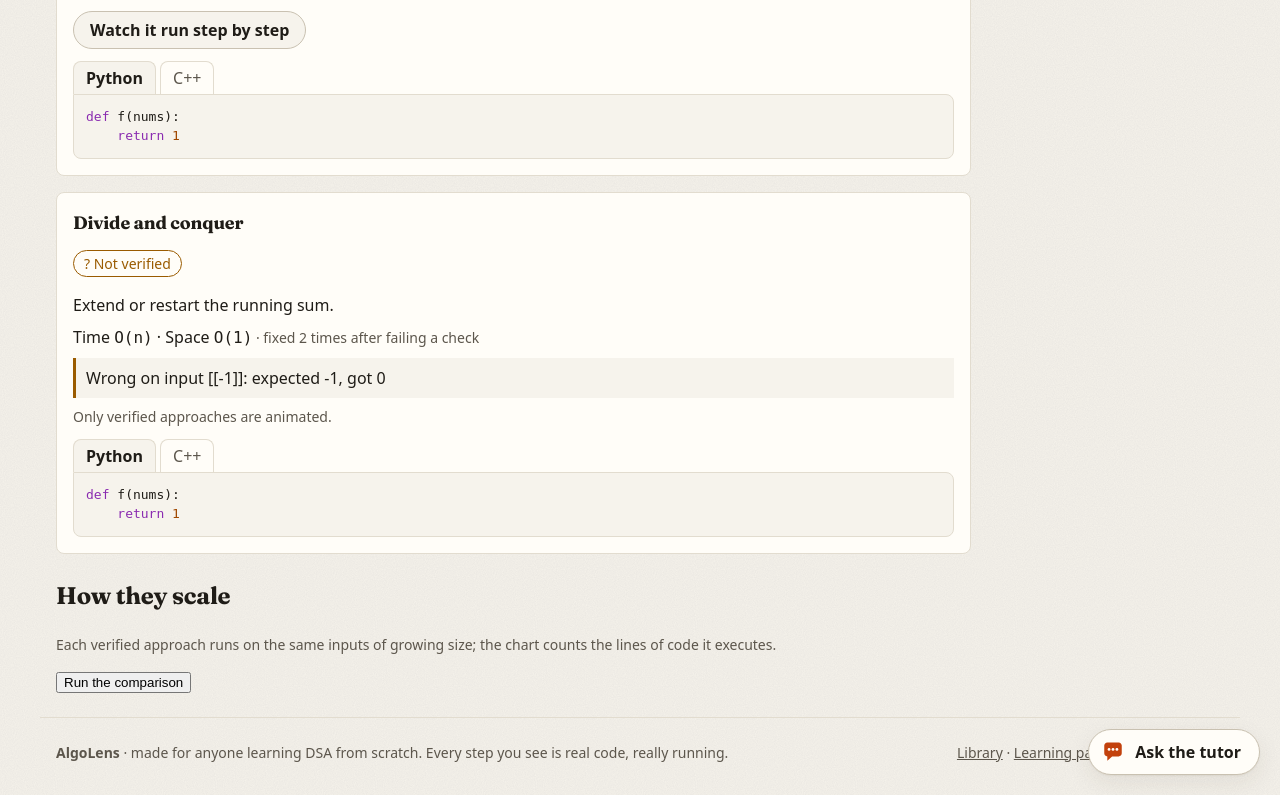
Test case: the comparison runs on request and shows a chart, a legend and the numbers
(page scrolled)
Click the button "Run the comparison" at (124, 682), box x1=56 y1=672 x2=191 y2=693
(page scrolled)
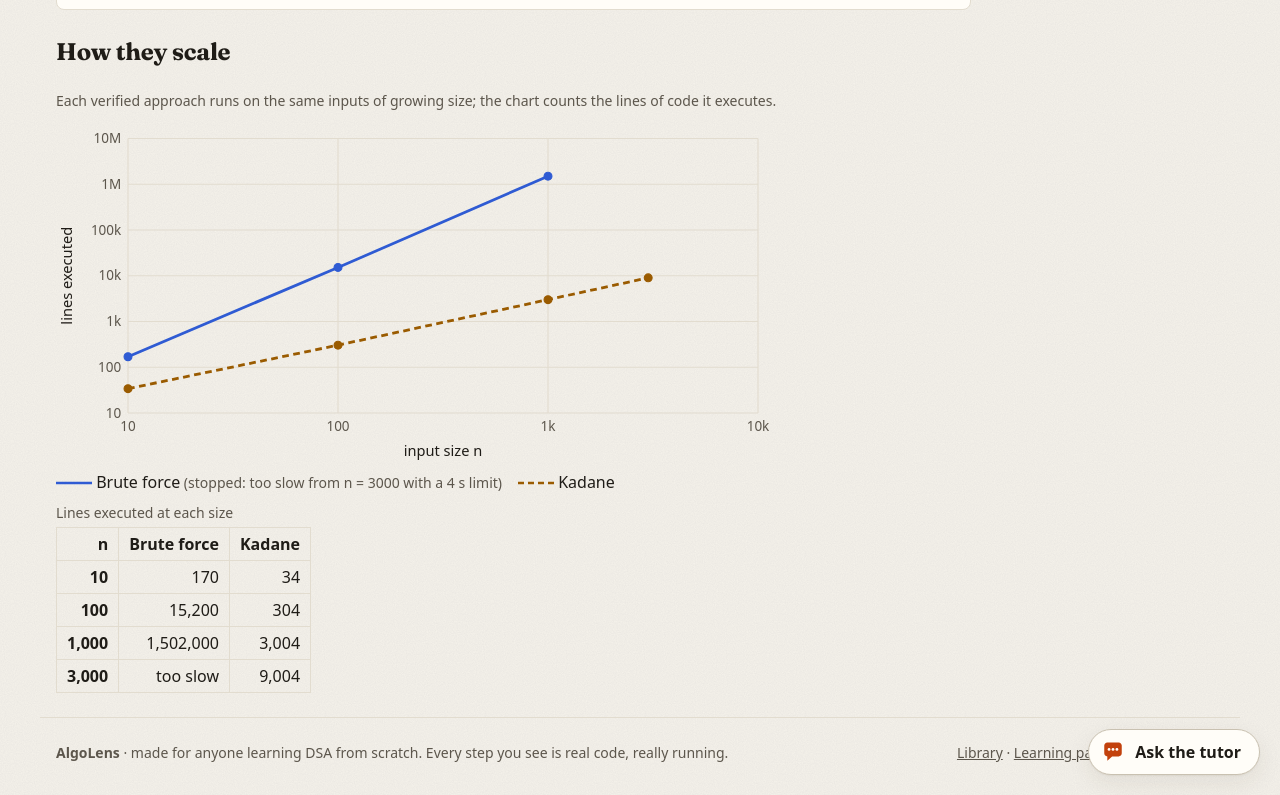
Expected: the picture named "Lines executed against input size" is shown, x1=56 y1=125 x2=776 y2=462
Expected: the text "(stopped: too slow from n = 3000 with a 4 s limit)" is shown, x1=180 y1=473 x2=502 y2=492
Expected: the table "Lines executed at each size" shows "1,502,000", x1=146 y1=632 x2=219 y2=654
